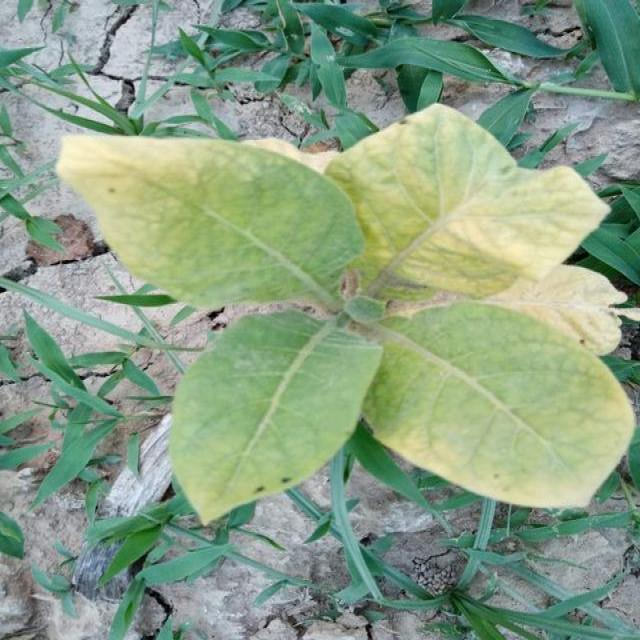crop: (56, 114, 640, 514)
